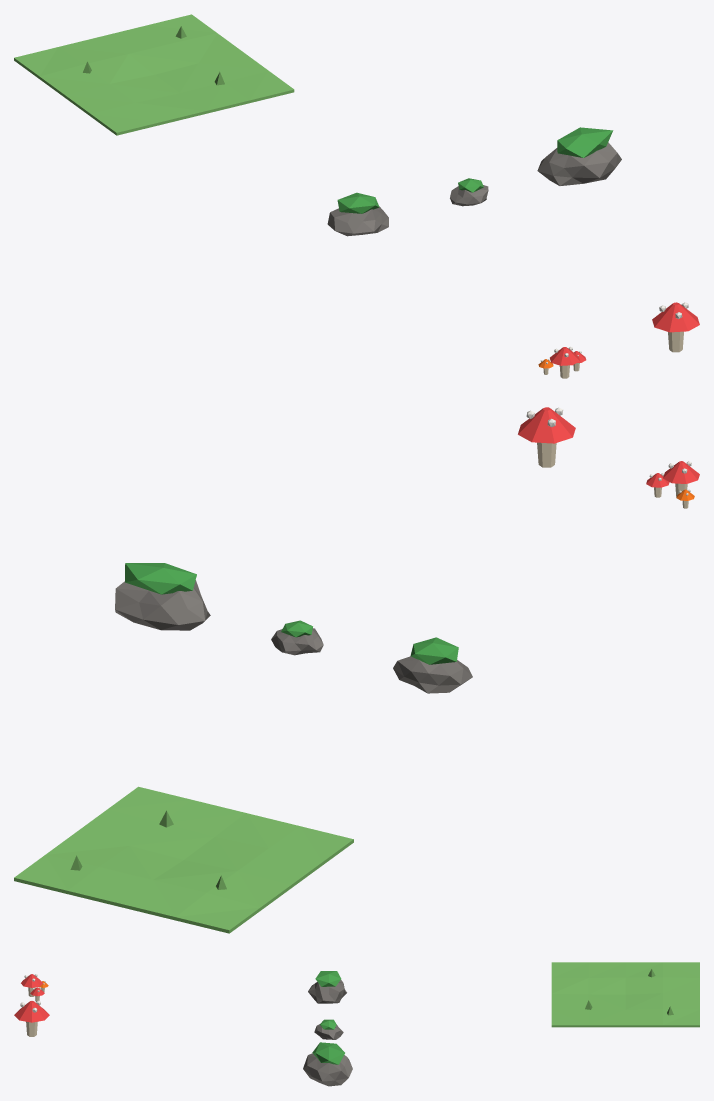
File: kit_hutan_v001.glb
The picture shows the model from 3 angles, top to bottom: view 1: azimuth 30°, elevation 25°; view 2: azimuth 150°, elevation 25°; view 3: azimuth 270°, elevation 25°; orthographic projection. The views are drawn at different scales.
Visible parts, largest first — view 1: lantai_hutan, Batu_Lumut_C, Batu_Lumut_A, Jamur_B, Batu_Lumut_B, Jamur_A; view 2: lantai_hutan, Batu_Lumut_C, Batu_Lumut_A, Jamur_B, Batu_Lumut_B, Jamur_A; view 3: lantai_hutan, Batu_Lumut_C, Batu_Lumut_A, Jamur_B, Batu_Lumut_B, Jamur_A.
Boxes of the visible parts, x1,y1,x2,y2 form: lantai_hutan: [14, 14, 294, 135]; Batu_Lumut_C: [537, 127, 621, 185]; Batu_Lumut_A: [327, 192, 388, 236]; Jamur_B: [652, 302, 699, 352]; Batu_Lumut_B: [450, 178, 488, 206]; Jamur_A: [538, 346, 586, 378]; lantai_hutan: [14, 786, 353, 933]; Batu_Lumut_C: [115, 563, 210, 630]; Batu_Lumut_A: [393, 637, 472, 693]; Jamur_B: [518, 407, 575, 467]; Batu_Lumut_B: [271, 620, 323, 655]; Jamur_A: [646, 461, 699, 508]; lantai_hutan: [551, 962, 699, 1027]; Batu_Lumut_C: [303, 1042, 352, 1086]; Batu_Lumut_A: [308, 971, 346, 1003]; Jamur_B: [14, 1000, 49, 1036]; Batu_Lumut_B: [314, 1019, 343, 1039]; Jamur_A: [21, 974, 48, 1001].
Size of the model in its own units: 7.81 by 0.99 by 18.48.
